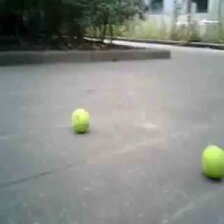tennis: (201, 145, 224, 176), (71, 110, 90, 133)
